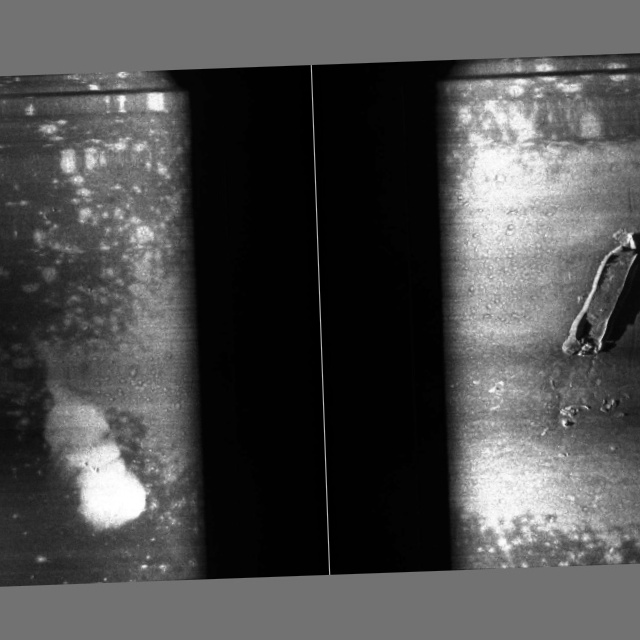Shipwreck: (482, 226, 640, 460)
